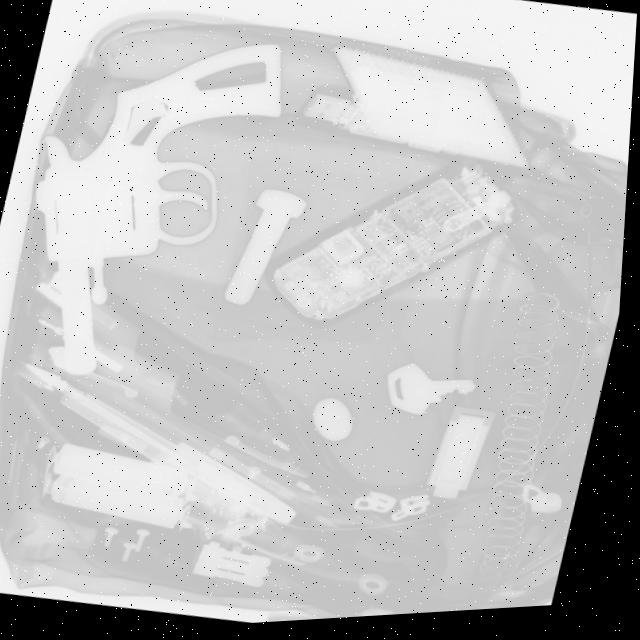pistol: (0, 8, 304, 411)
